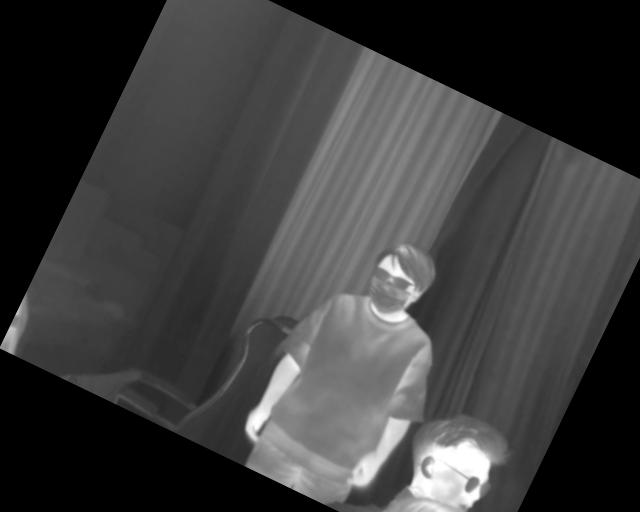face: (355, 232, 443, 327)
